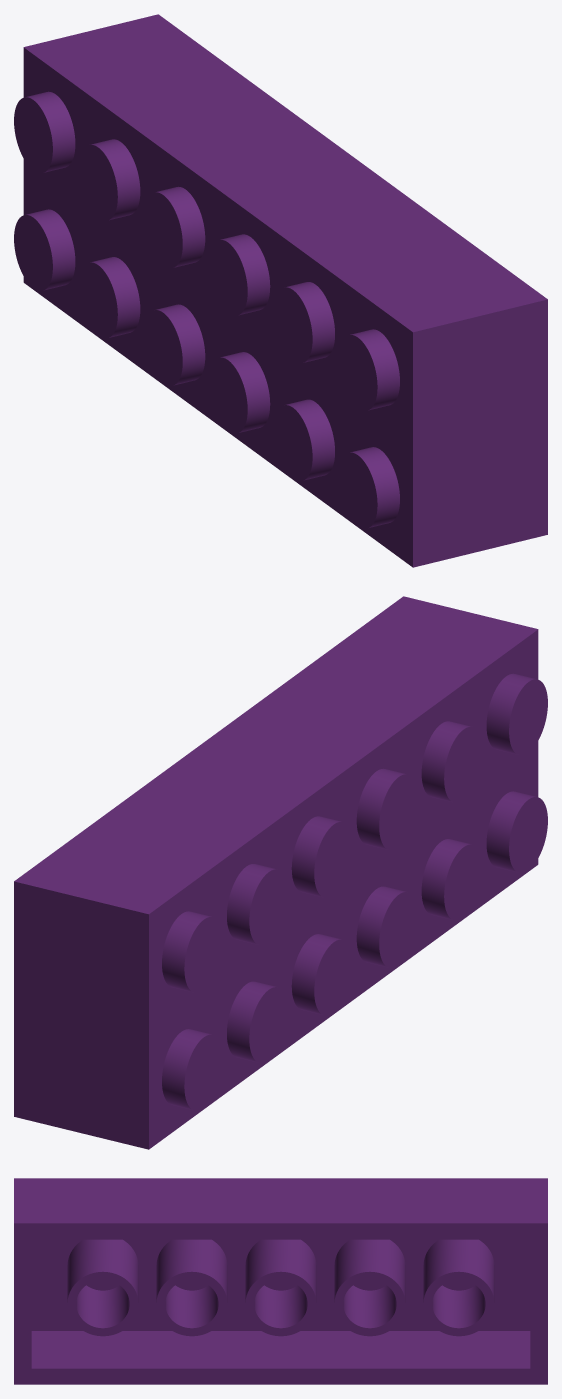
The model's file is brick2*6_medium_lavender.obj.
3 views of the same model, one above another, from view 1: azimuth 30°, elevation 25°; view 2: azimuth 150°, elevation 25°; view 3: azimuth 270°, elevation 25° (orthographic). The views are drawn at different scales.
Visible parts, largest first — view 1: brick2*6_medium_lavender; view 2: brick2*6_medium_lavender; view 3: brick2*6_medium_lavender.
Boxes of the visible parts, box(x1,y1,x2,y2) form: brick2*6_medium_lavender: box(14, 14, 547, 567); brick2*6_medium_lavender: box(14, 596, 547, 1149); brick2*6_medium_lavender: box(14, 1178, 547, 1384).
Bounding box in the file's own units: 28 × 40 × 120.
